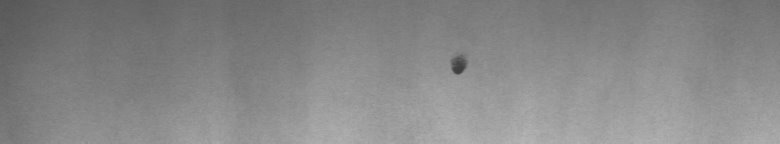fi: (445, 48, 472, 84)
